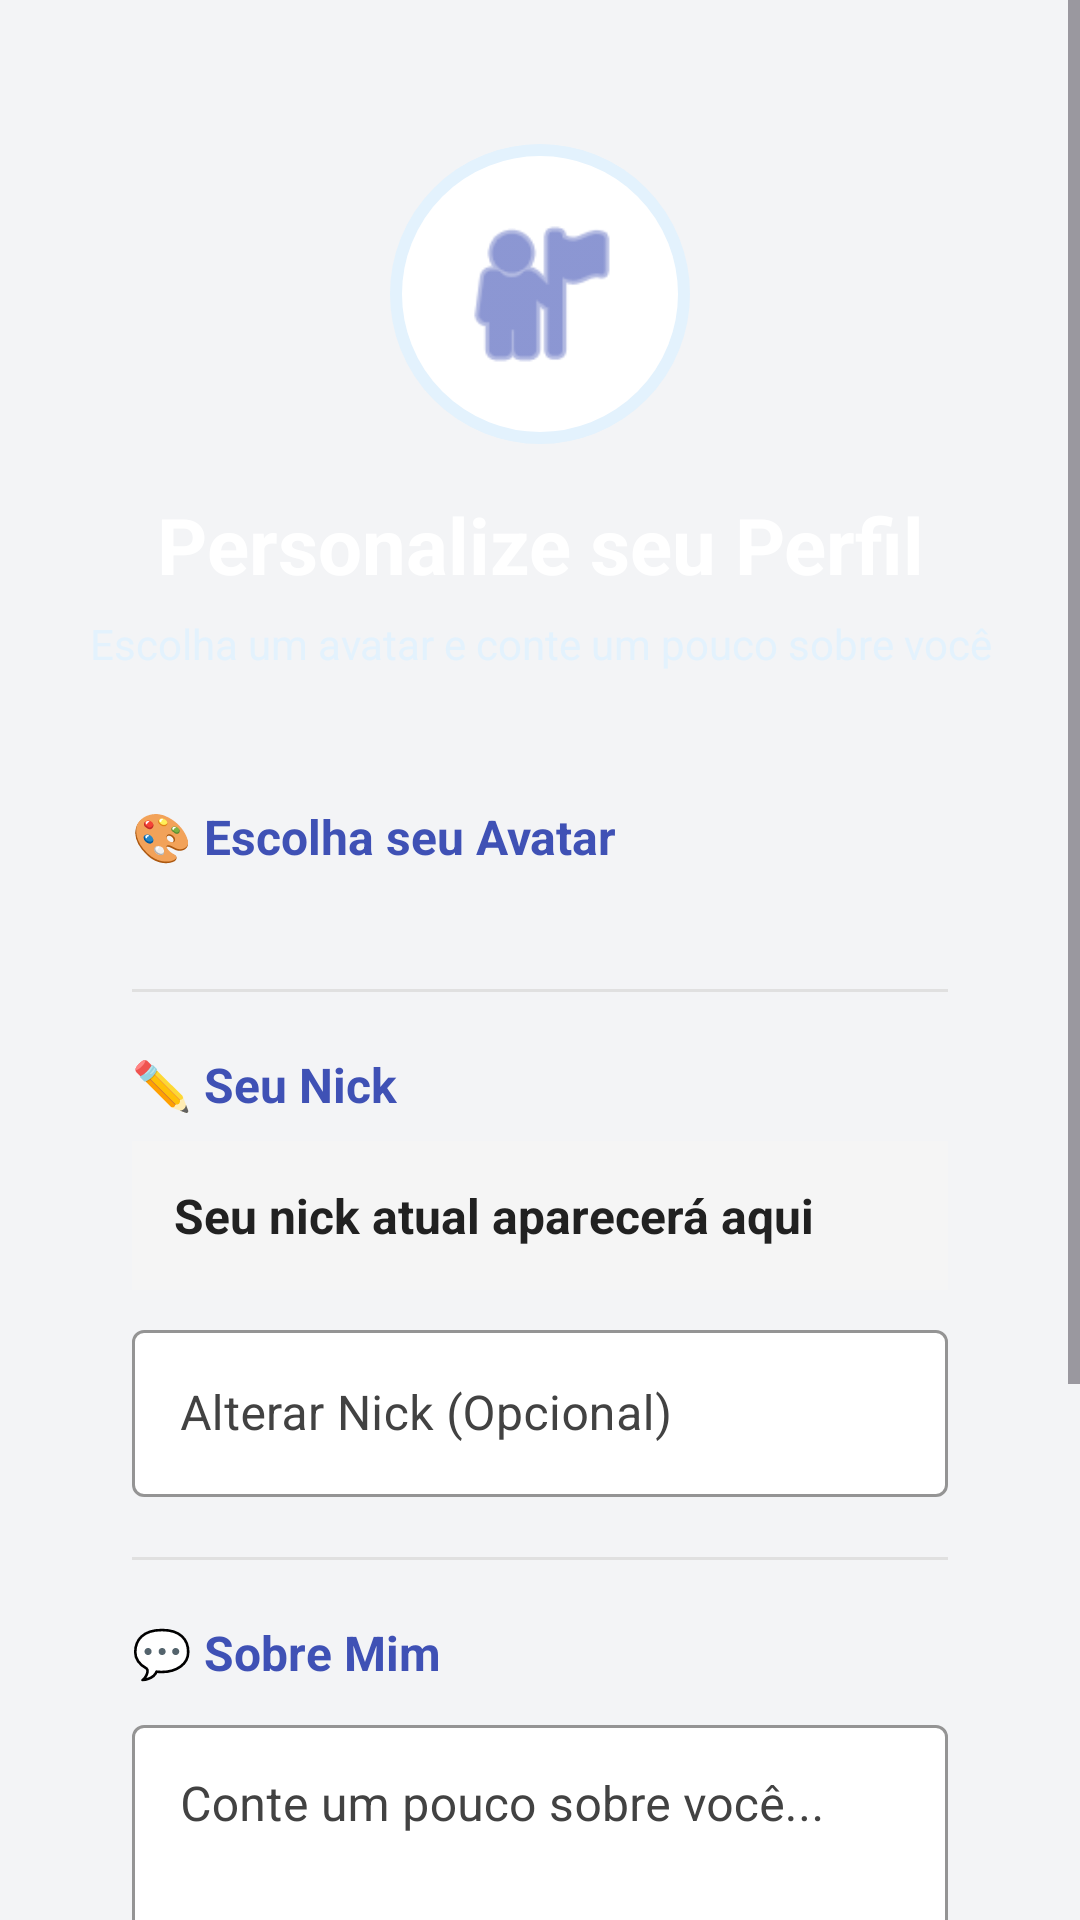

Icon bounding boxes for this 1080 x 1920 phone screenshot, format (x1, y1, x2, y2):
Avatar Escolhido: (475, 228, 609, 361)
